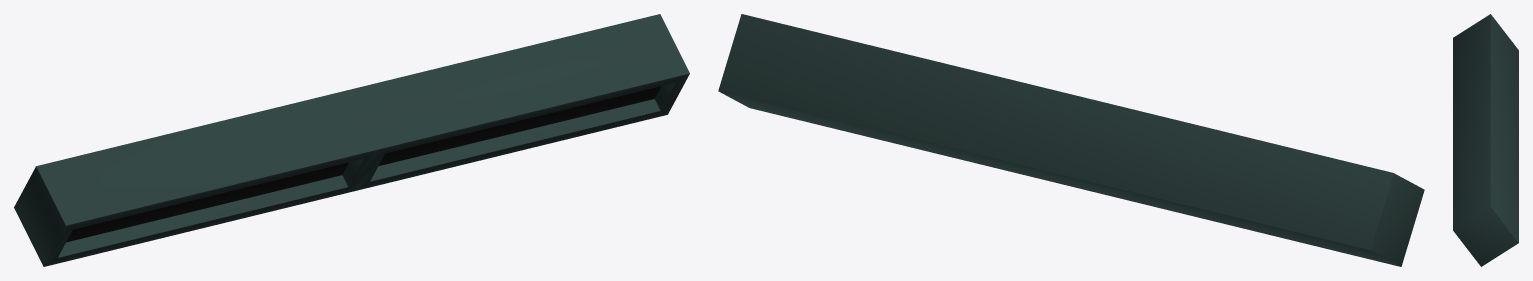
Rendered from mur 2.fbx.
3 renders of one model, left to right at view 1: azimuth 30°, elevation 25°; view 2: azimuth 150°, elevation 25°; view 3: azimuth 270°, elevation 25°, orthographic. The views are drawn at different scales.
Visible parts, largest first — view 1: Box026; view 2: Box026; view 3: Box026.
Boxes of the visible parts, x1,y1,x2,y2 form: Box026: (14, 14, 689, 266); Box026: (718, 14, 1424, 266); Box026: (1453, 14, 1518, 266).
Size of the model in its own units: 1253 by 183 by 181.
